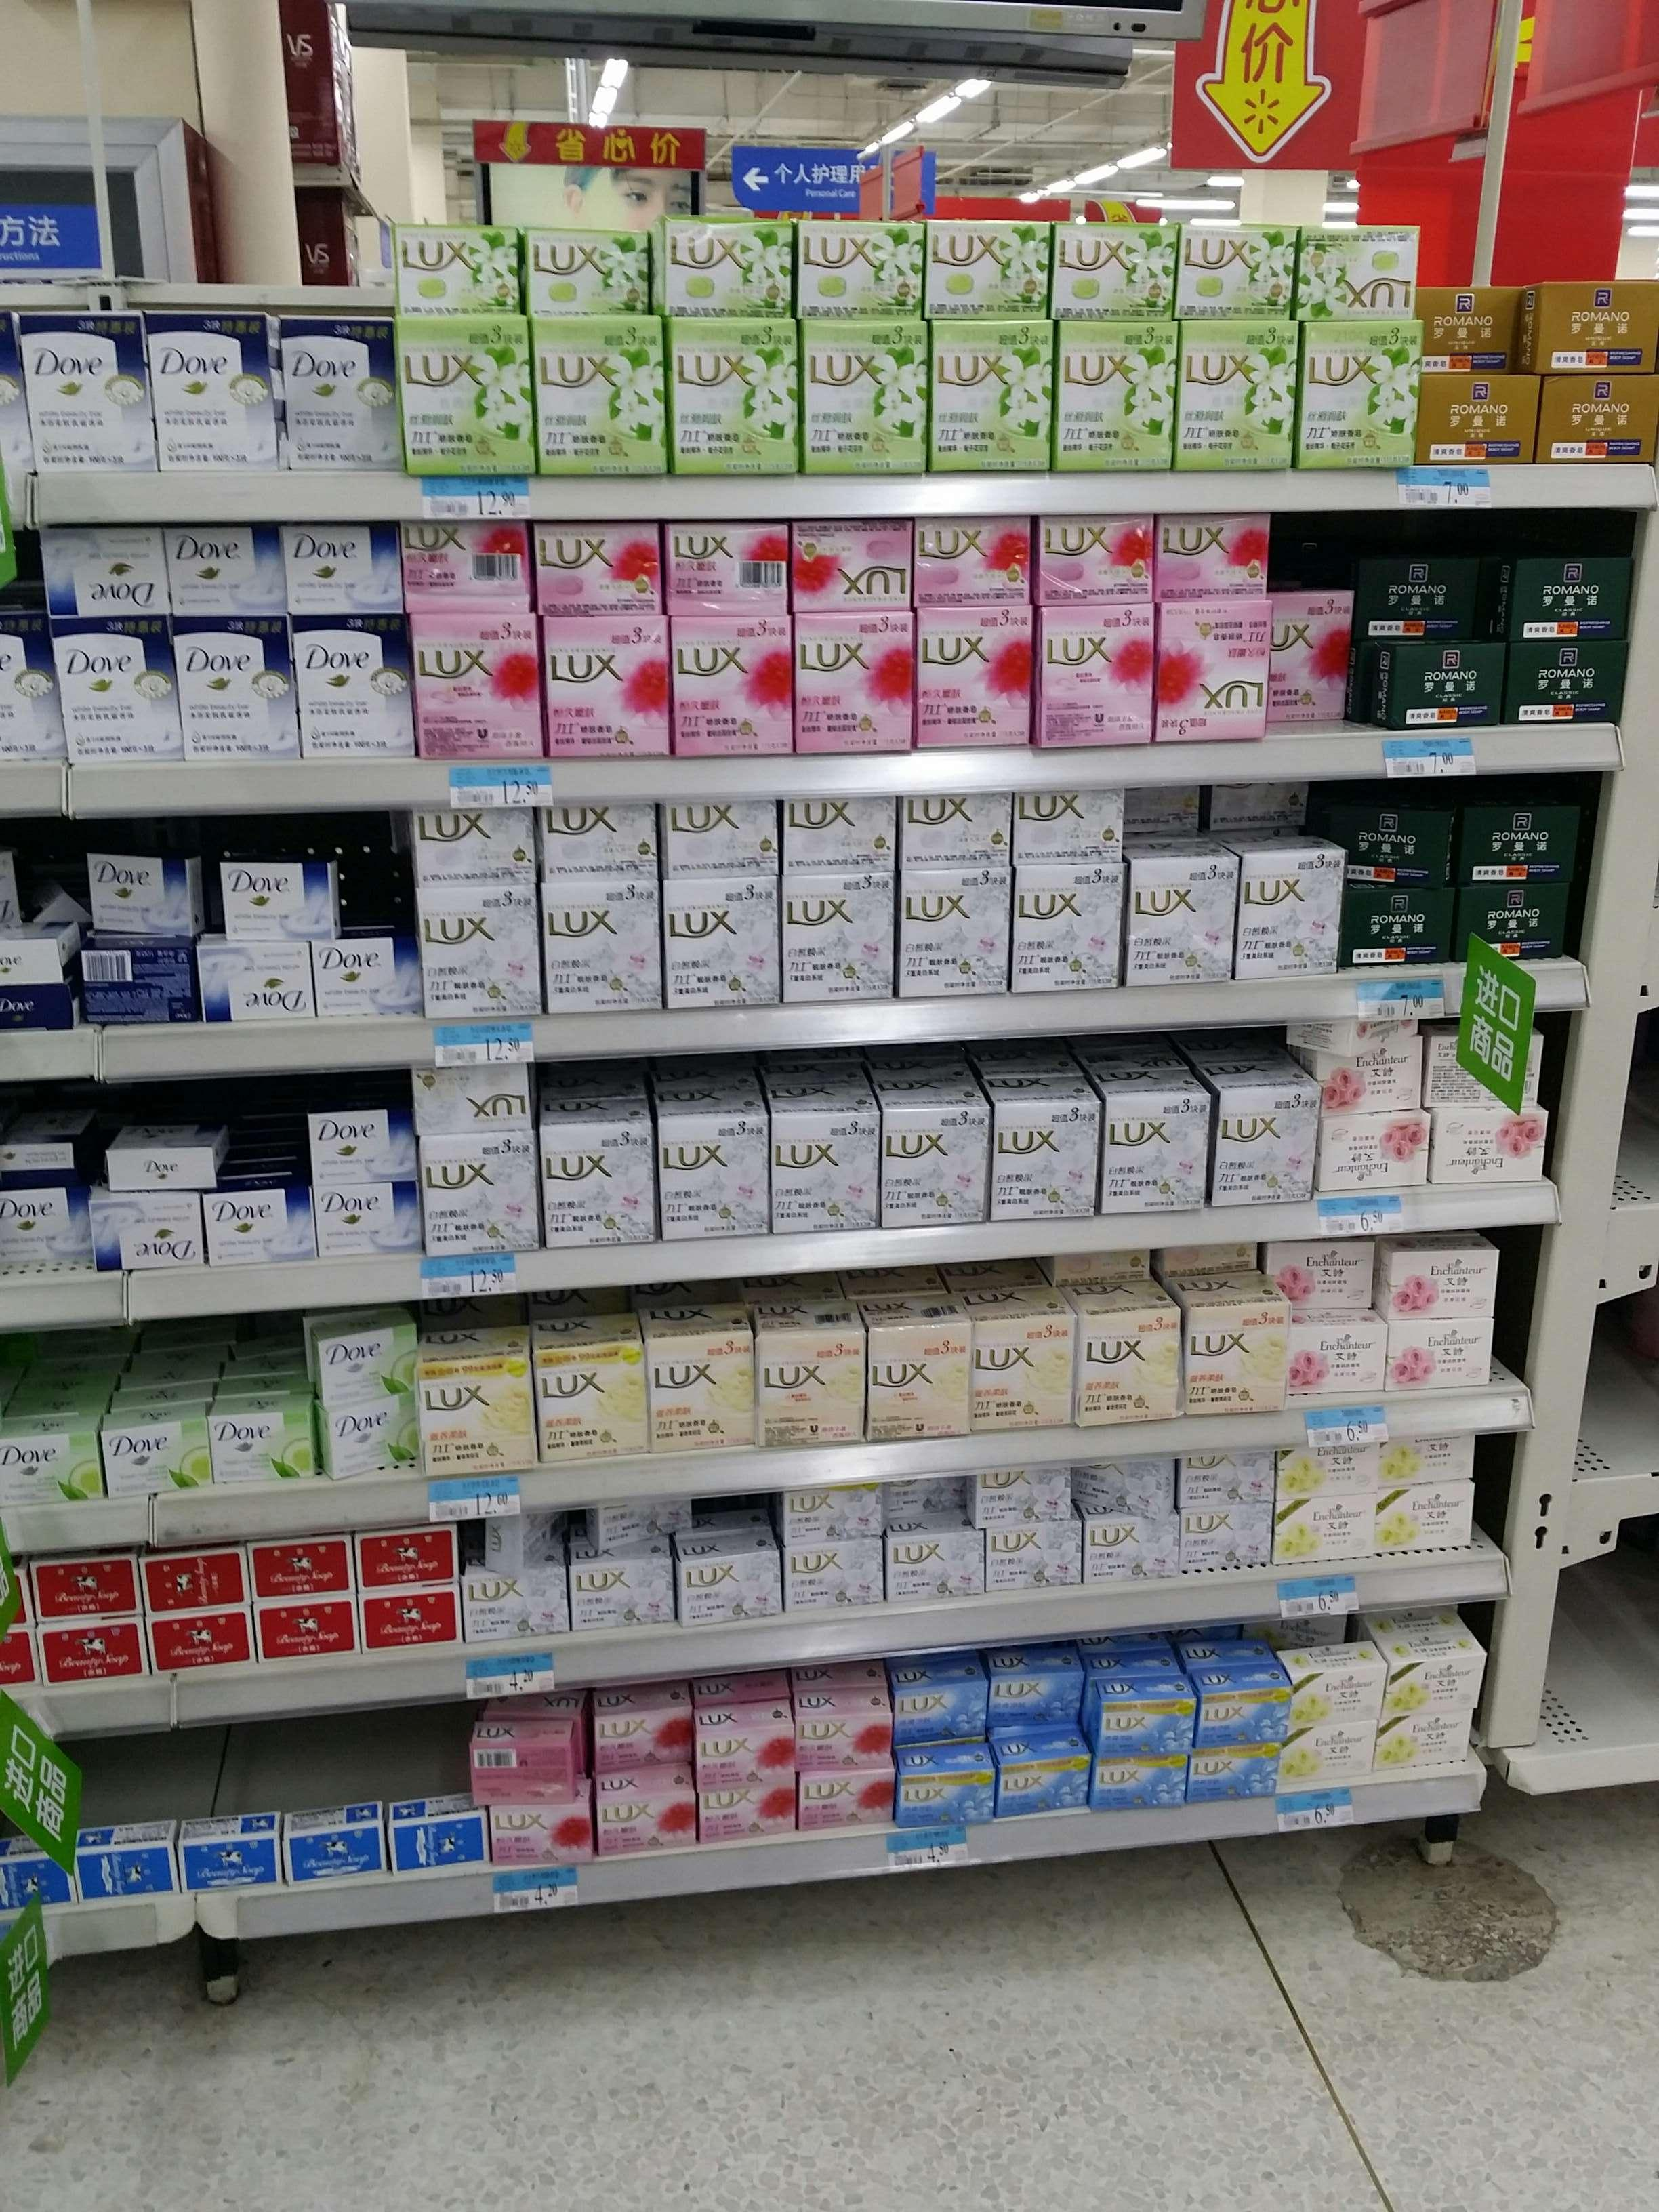misalignment: (314, 1320, 422, 1468), (84, 939, 200, 1031), (105, 1129, 244, 1197), (471, 1726, 591, 1796), (484, 1508, 563, 1573), (1288, 1019, 1424, 1049), (594, 1505, 690, 1540)
